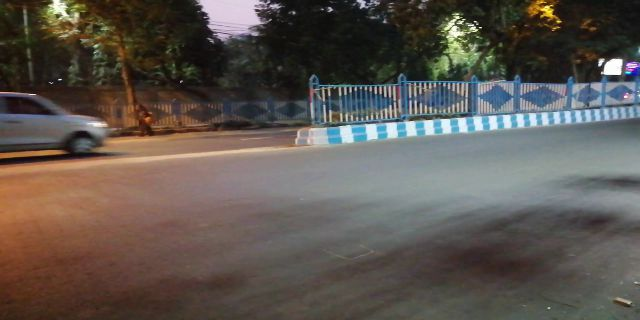Car: (3, 93, 112, 155)
